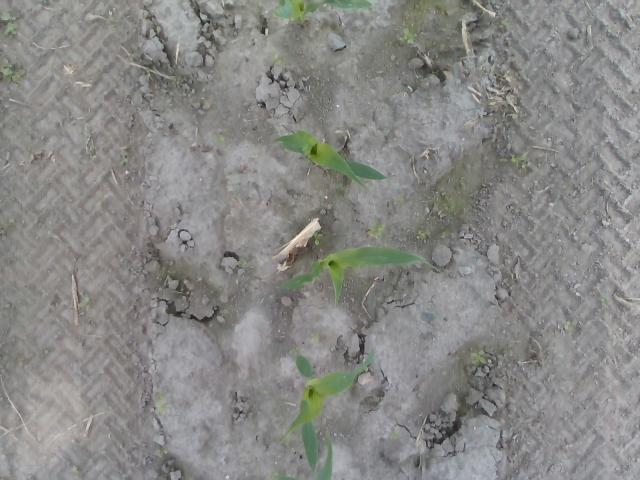Maize: (277, 350, 378, 474), (276, 246, 442, 310), (270, 129, 390, 190), (274, 431, 334, 480), (270, 0, 376, 26)
Weeds: (1, 58, 23, 84), (508, 150, 534, 171), (148, 390, 168, 414), (1, 14, 19, 38), (370, 220, 388, 241), (398, 28, 416, 44), (268, 50, 282, 68), (77, 292, 91, 309), (470, 350, 484, 366), (388, 428, 401, 441), (565, 320, 579, 332), (210, 132, 224, 144), (116, 152, 128, 166), (600, 294, 612, 308), (151, 449, 168, 458), (392, 194, 404, 206), (314, 232, 324, 246), (234, 258, 247, 268), (416, 231, 430, 240), (500, 19, 510, 30), (310, 331, 318, 342)
